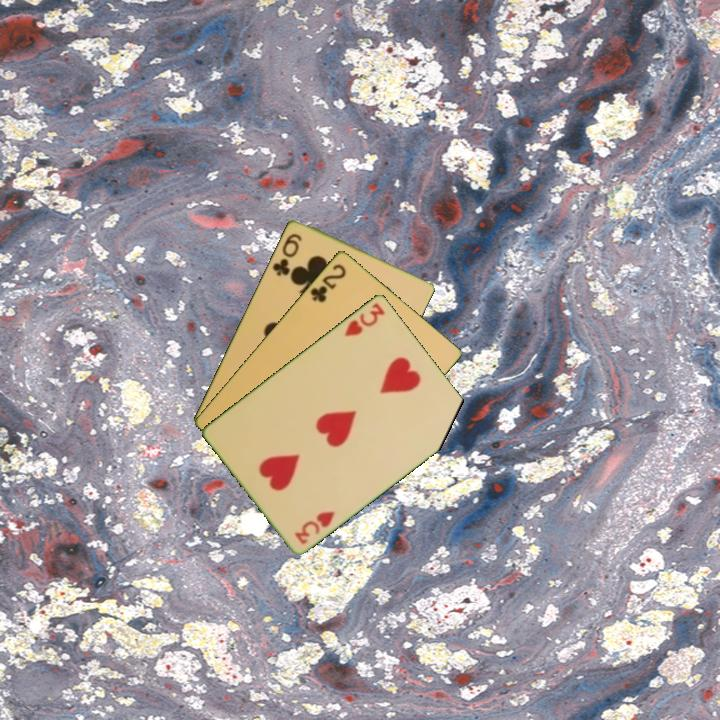2c: (306, 260, 349, 305)
3h: (341, 299, 388, 339), (291, 507, 337, 547)
6c: (269, 229, 305, 279)
